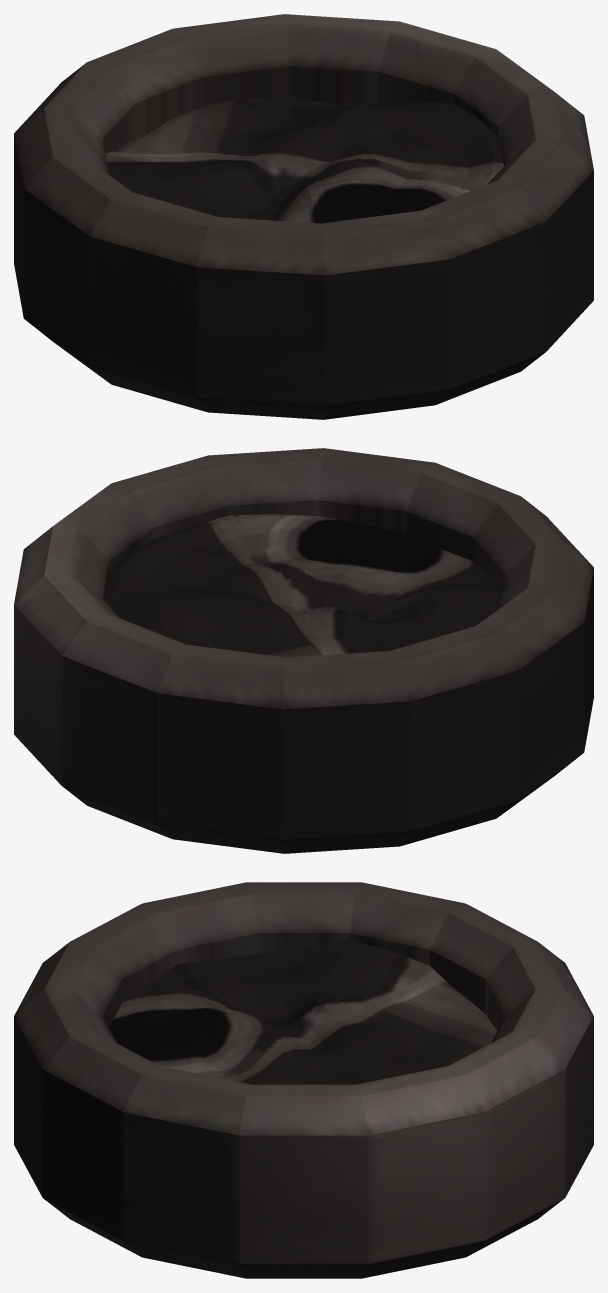
File: wirlpool (3).fbx
3 views of the same model, one above another, from view 1: azimuth 30°, elevation 25°; view 2: azimuth 150°, elevation 25°; view 3: azimuth 270°, elevation 25° (orthographic).
Visible parts, largest first — view 1: Cylinder, Cylinder.001; view 2: Cylinder, Cylinder.001; view 3: Cylinder, Cylinder.001.
Boxes of the visible parts, bbox=[...] form: Cylinder: bbox=[14, 14, 593, 419]; Cylinder.001: bbox=[105, 96, 503, 223]; Cylinder: bbox=[14, 448, 593, 853]; Cylinder.001: bbox=[105, 514, 502, 657]; Cylinder: bbox=[14, 882, 593, 1278]; Cylinder.001: bbox=[109, 940, 496, 1084].
Size of the model in its own units: 191 by 68 by 196.
Materials: 2 (2 with a texture image).
